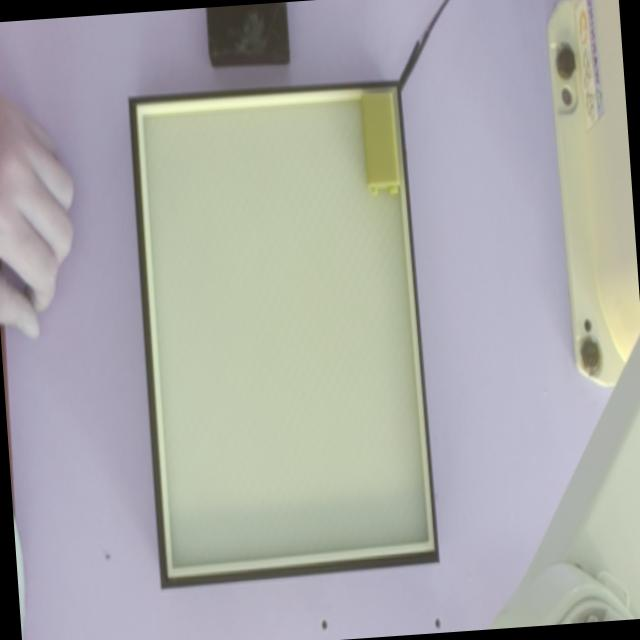bateria: (360, 91, 400, 194)
mesa: (127, 79, 440, 589)
